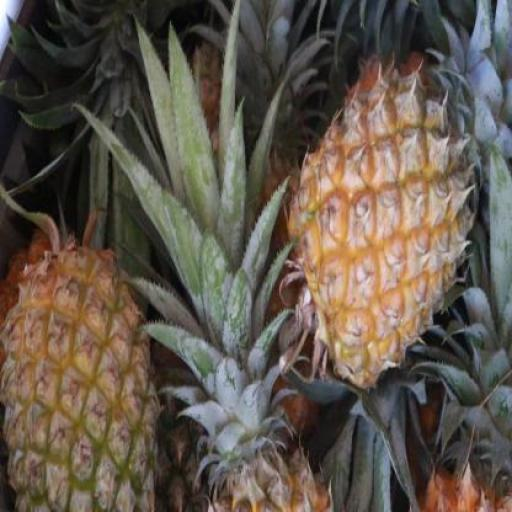------------------------------: (0, 230, 162, 512)
Pineapple - v8 v1: (288, 72, 490, 392)
